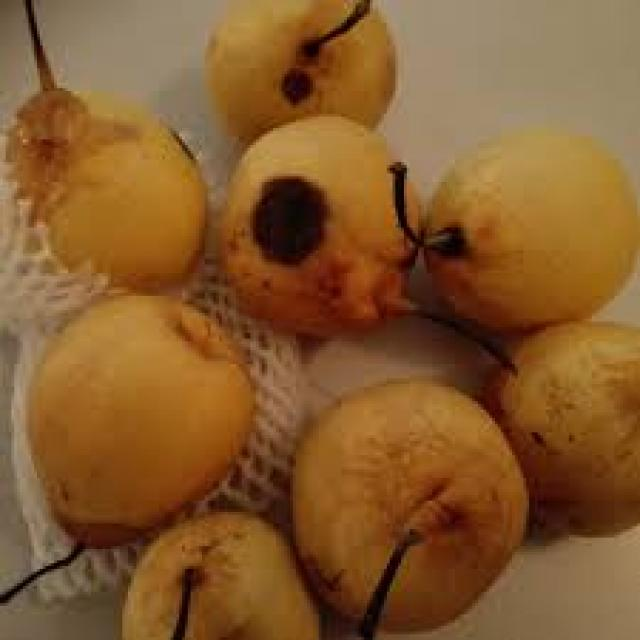organic waste: (0, 282, 253, 603), (284, 373, 526, 637), (0, 0, 207, 287), (384, 125, 637, 333), (427, 307, 637, 535), (219, 111, 424, 333), (204, 0, 395, 139), (120, 506, 322, 637)
